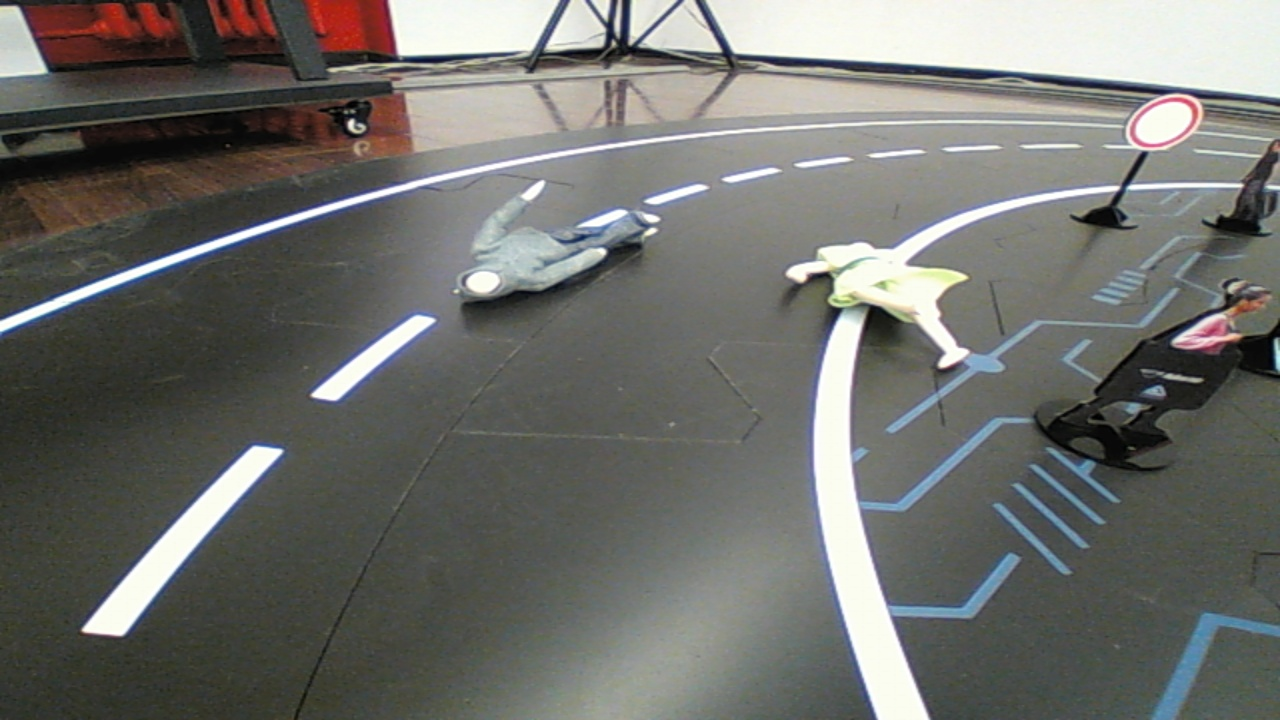Road works: (420, 165, 681, 312), (783, 229, 988, 376)
